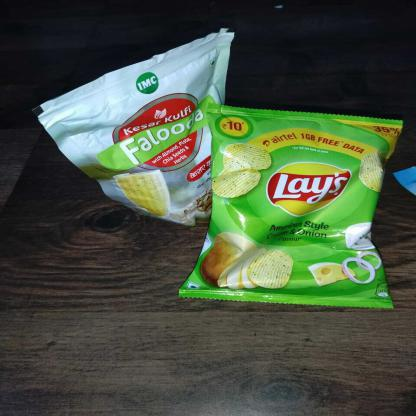cream_and_onion: (172, 103, 410, 317)
